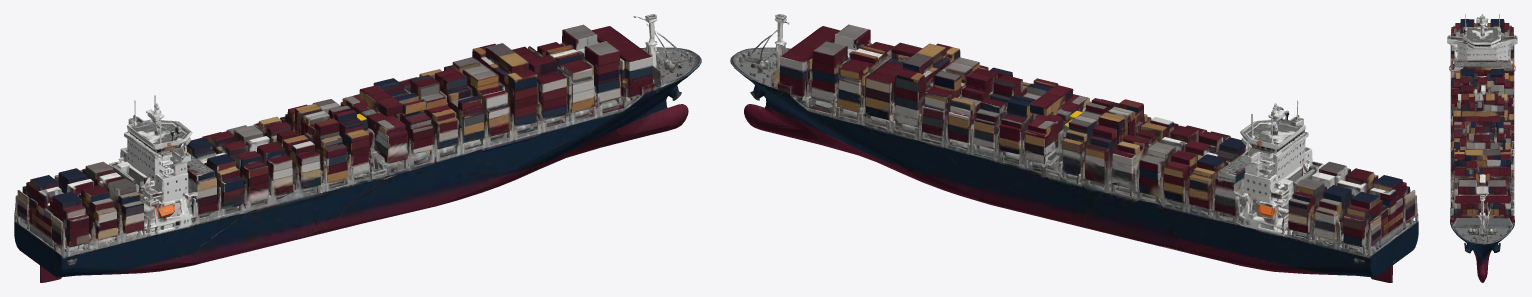
The model's file is 03_container_ship_230m.glb.
3 renders of one model, left to right at view 1: azimuth 30°, elevation 25°; view 2: azimuth 150°, elevation 25°; view 3: azimuth 270°, elevation 25°, orthographic. The views are drawn at different scales.
Parts seen in each view (by area): view 1: Mesh_0; view 2: Mesh_0; view 3: Mesh_0.
Boxes of the visible parts, left/top/right/bottom form: Mesh_0: left=14, top=14, right=701, bottom=282; Mesh_0: left=730, top=14, right=1418, bottom=282; Mesh_0: left=1447, top=14, right=1517, bottom=282.
Bounding box in the file's own units: 230 × 50.76 × 31.99.
1 material, 1 textured.
